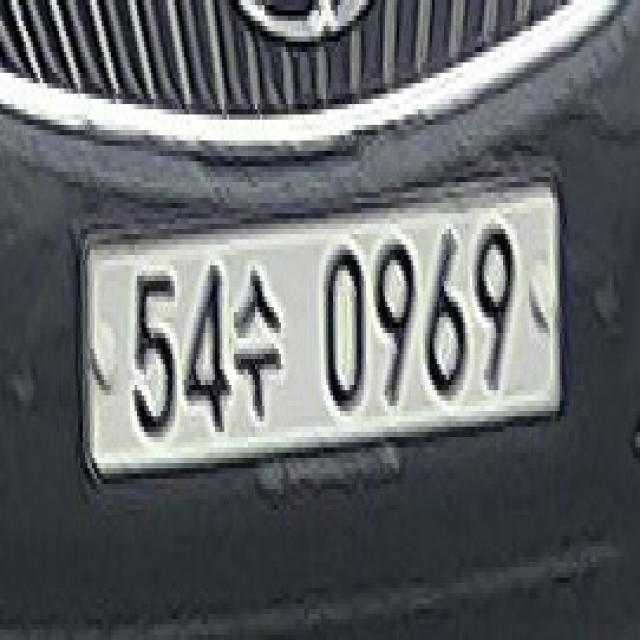0: (317, 231, 367, 413)
4: (179, 254, 232, 438)
5: (130, 259, 176, 442)
6: (420, 216, 468, 402)
9: (370, 224, 418, 406), (470, 214, 518, 392)
license_plate: (67, 147, 571, 509)
su: (234, 254, 288, 431)
